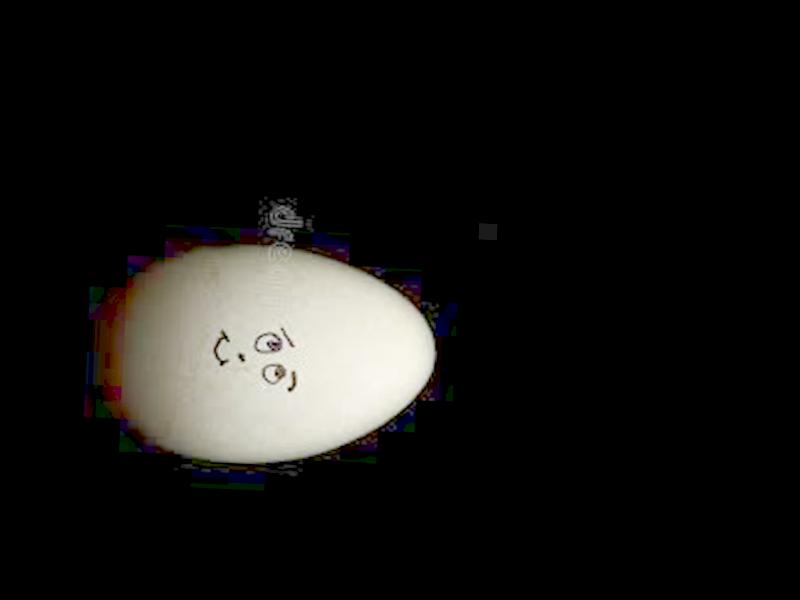Eggs: (109, 241, 440, 470)
